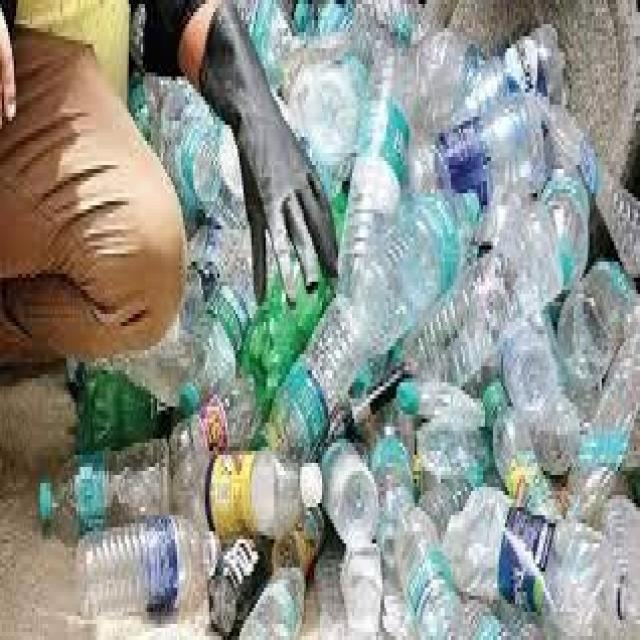garbage: (32, 402, 638, 636), (326, 0, 638, 407), (183, 302, 326, 398), (156, 89, 238, 178)
